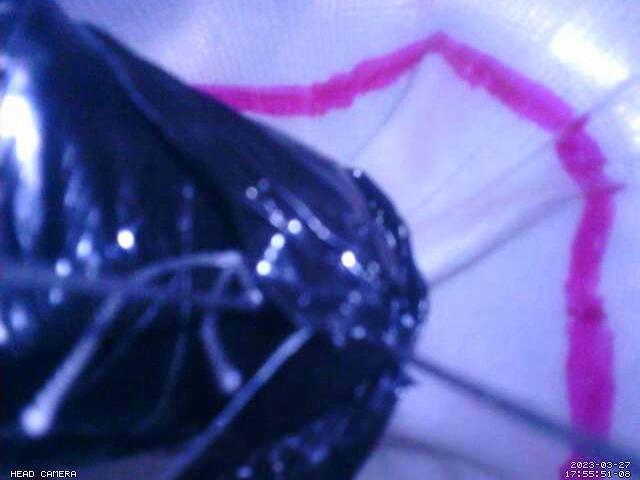red-circle: (187, 30, 615, 480)
